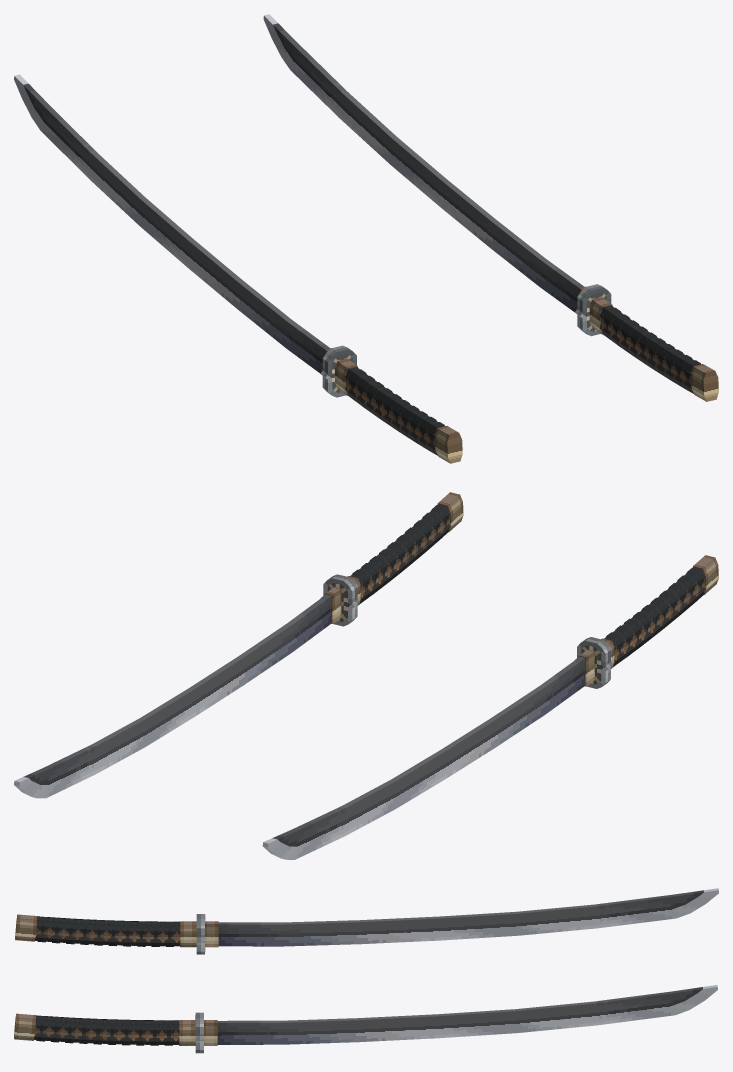
Rendered from phantom_katana.glb.
The picture shows the model from 3 angles, top to bottom: view 1: azimuth 30°, elevation 25°; view 2: azimuth 150°, elevation 25°; view 3: azimuth 270°, elevation 25°; orthographic projection. The views are drawn at different scales.
Parts seen in each view (by area): view 1: main__Tool_R, off__Tool_L; view 2: off__Tool_L, main__Tool_R; view 3: off__Tool_L, main__Tool_R.
Boxes of the visible parts, <box> form: main__Tool_R: <box>263,14,718,401</box>; off__Tool_L: <box>14,74,462,463</box>; off__Tool_L: <box>262,555,718,859</box>; main__Tool_R: <box>14,492,463,798</box>; off__Tool_L: <box>15,888,718,954</box>; main__Tool_R: <box>14,985,717,1053</box>.
Bounding box in the file's own units: 0.7622 × 0.2033 × 2.03.
1 material, 1 textured.
